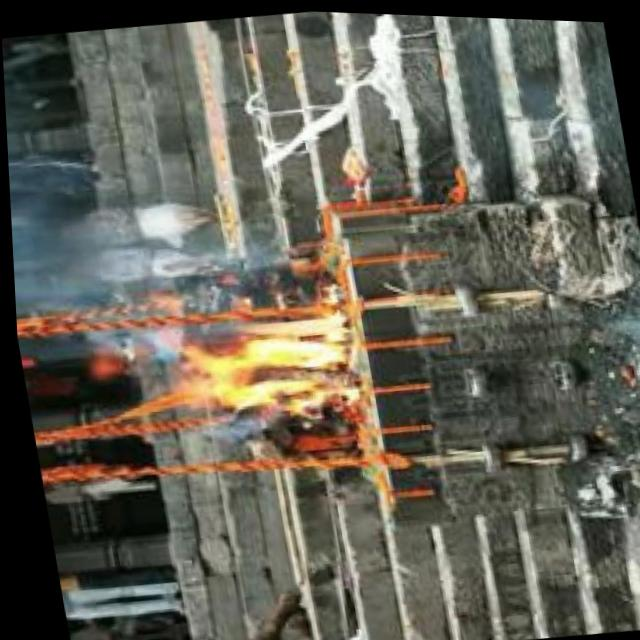Fire: (173, 305, 359, 424)
